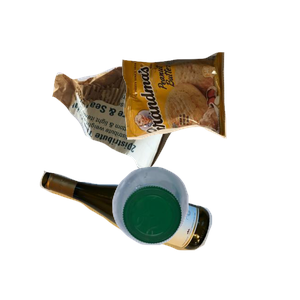cardboard: (50, 62, 228, 226)
glass: (37, 168, 242, 300)
plastic: (110, 164, 300, 300)
trash: (120, 50, 300, 182)
